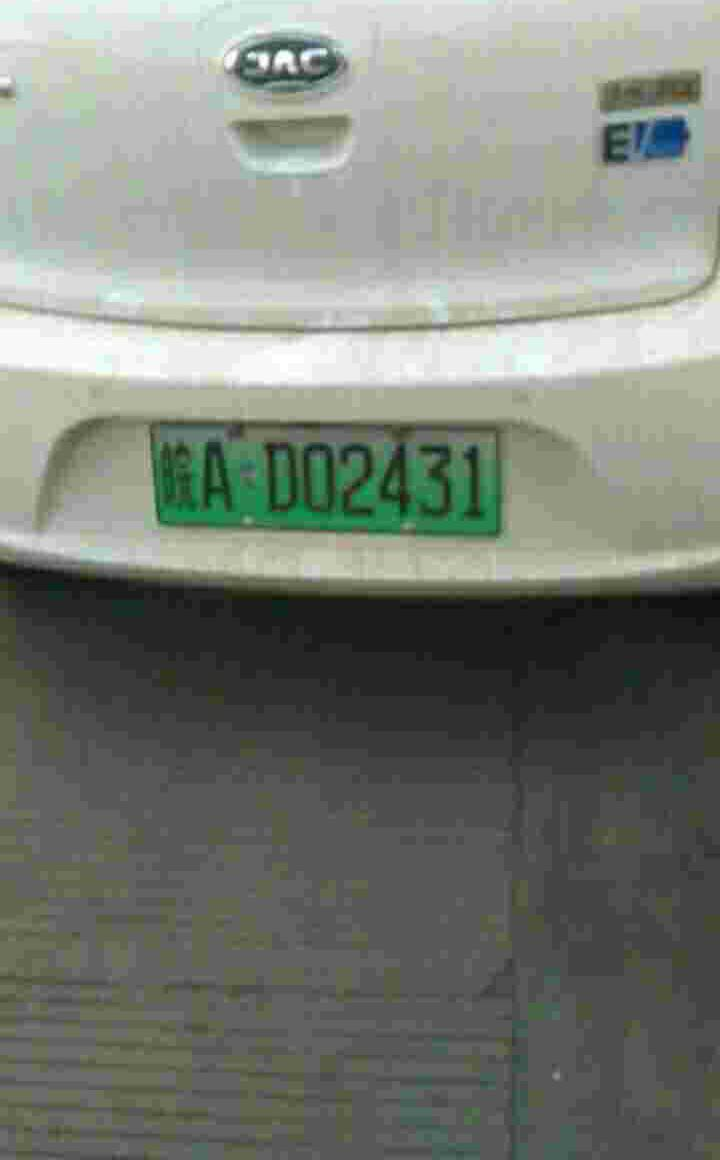car_id: (151, 424, 499, 532)
